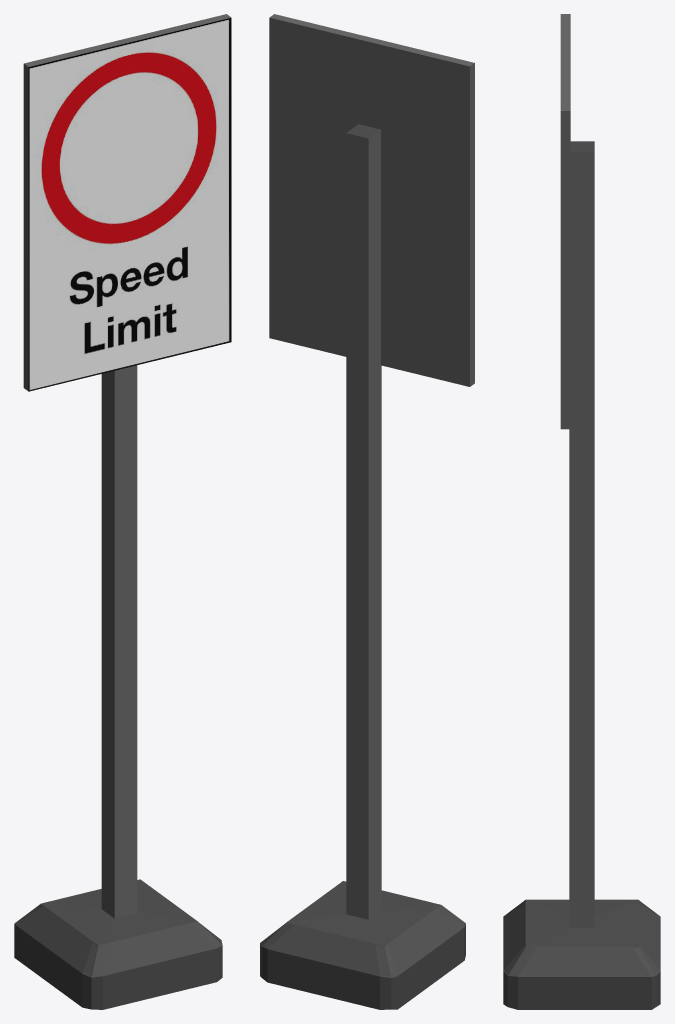
File: Speed_Limit_Sign.fbx
3 views of the same model, side by side, from view 1: azimuth 30°, elevation 25°; view 2: azimuth 150°, elevation 25°; view 3: azimuth 270°, elevation 25° (orthographic).
Parts seen in each view (by area): view 1: Cube.001, Cube; view 2: Cube.001, Cube; view 3: Cube, Cube.001.
Part boxes in pixels (bbox=[...]): Cube.001: bbox=[23, 14, 231, 391]; Cube: bbox=[14, 365, 222, 1009]; Cube.001: bbox=[269, 14, 474, 386]; Cube: bbox=[260, 124, 465, 1009]; Cube: bbox=[503, 141, 660, 1009]; Cube.001: bbox=[560, 14, 570, 429].
Bounding box in the file's own units: 2.92 × 12.82 × 2.
3 materials, 1 textured.
